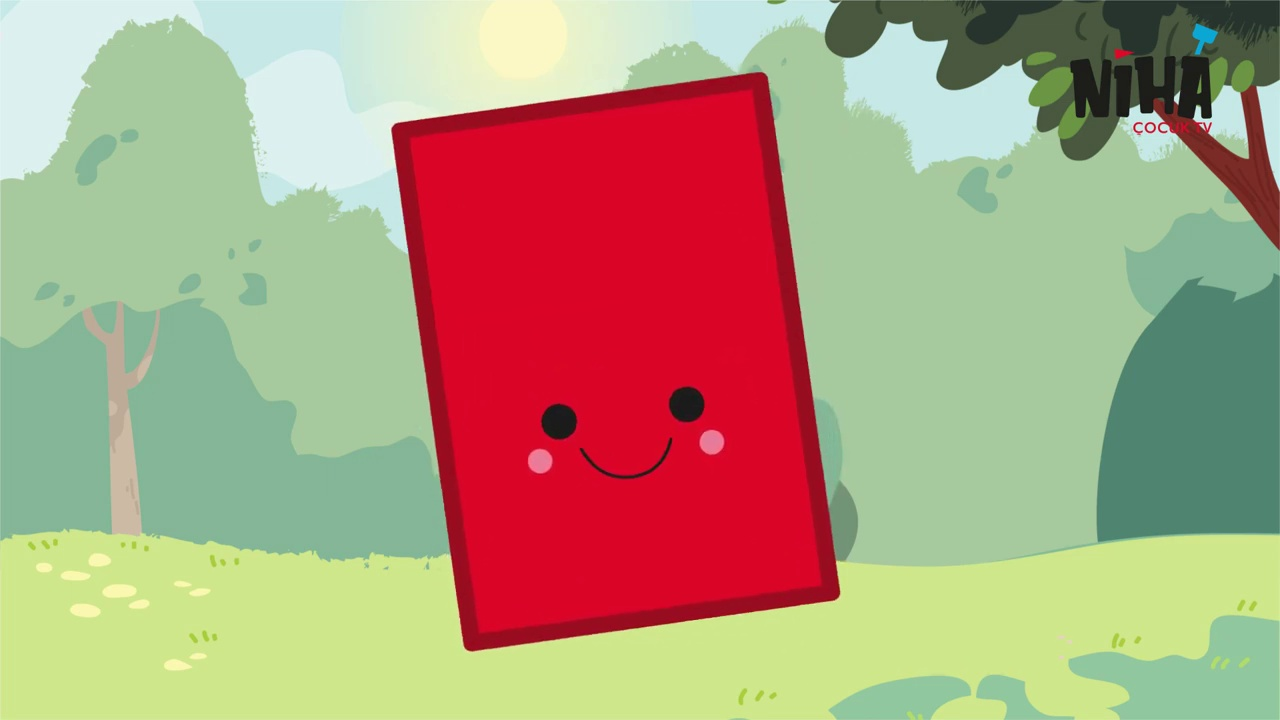dikdortgen: (381, 76, 852, 660)
